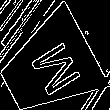M_SW: (18, 35, 79, 99)
